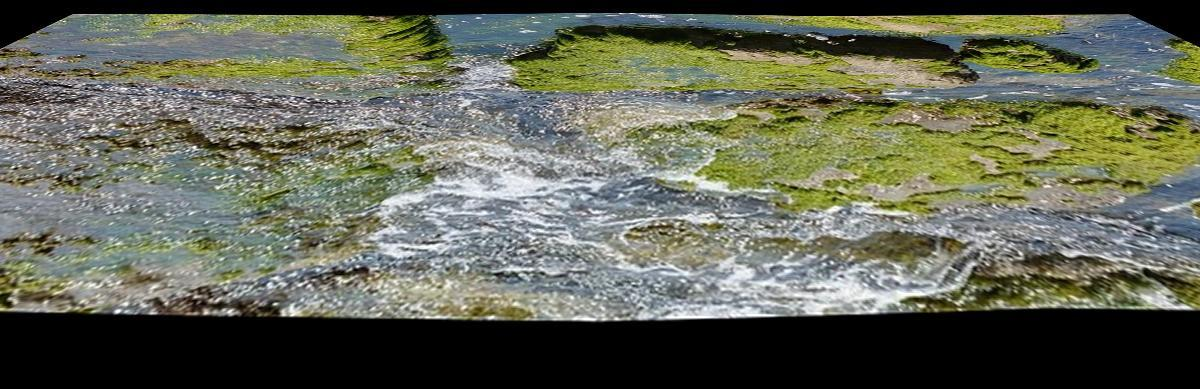Eutrophication Pollution: (74, 15, 1185, 301)
